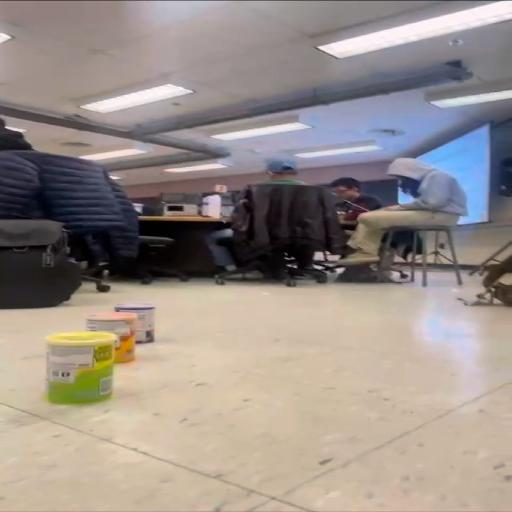pringle can: (47, 334, 117, 404), (84, 312, 141, 364), (112, 303, 155, 344)
